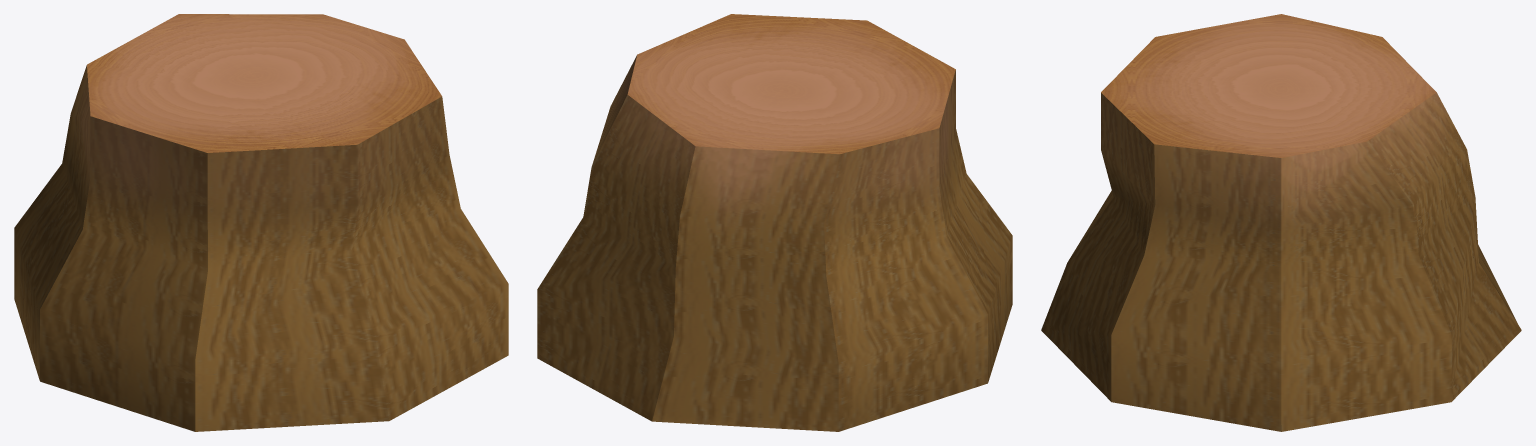
The model's file is Tree_Stump_1.glb.
3 views of the same model, side by side, from view 1: azimuth 30°, elevation 25°; view 2: azimuth 150°, elevation 25°; view 3: azimuth 270°, elevation 25° (orthographic). The views are drawn at different scales.
Parts seen in each view (by area): view 1: treeStump1HIGH; view 2: treeStump1HIGH; view 3: treeStump1HIGH.
Part boxes in pixels (x1,y1,x2,y2): treeStump1HIGH: (14, 14, 508, 431); treeStump1HIGH: (537, 14, 1012, 431); treeStump1HIGH: (1041, 14, 1521, 431).
Bounding box in the file's own units: 2.48 × 1.36 × 2.48.
Materials: 1 (1 with a texture image).
